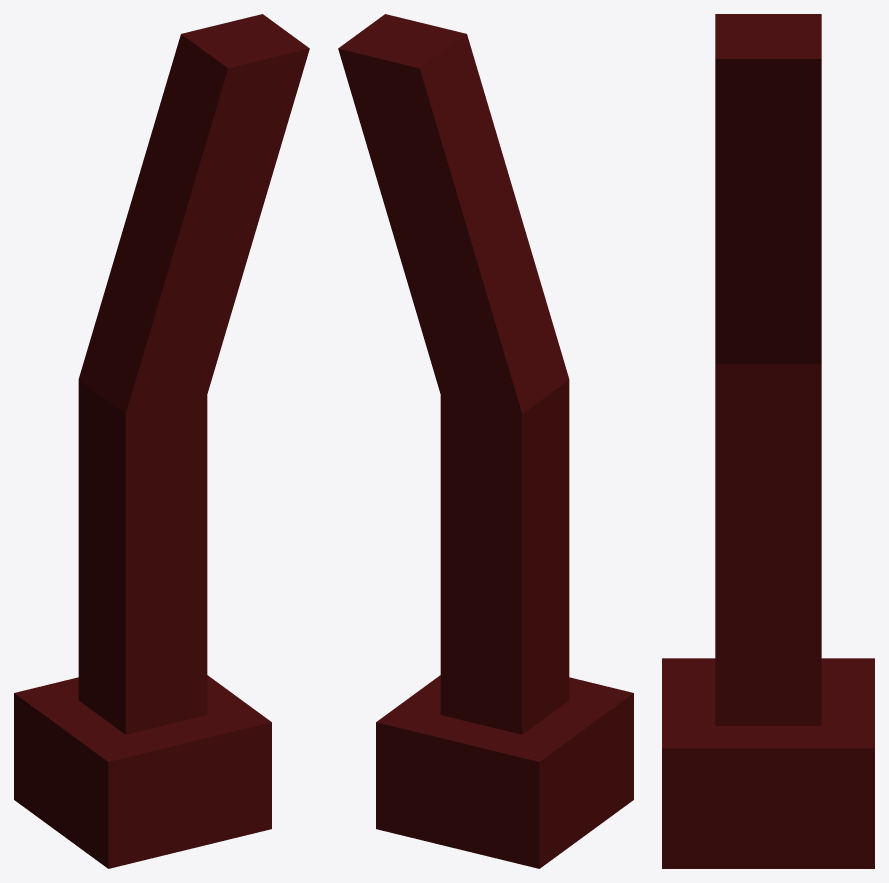
Rendered from daly3.FBX.
3 renders of one model, left to right at view 1: azimuth 30°, elevation 25°; view 2: azimuth 150°, elevation 25°; view 3: azimuth 270°, elevation 25°, orthographic. The views are drawn at different scales.
Parts seen in each view (by area): view 1: daly3; view 2: daly3; view 3: daly3.
Boxes of the visible parts, x1,y1,x2,y2 form: daly3: (14, 14, 309, 868); daly3: (338, 14, 633, 868); daly3: (662, 14, 874, 868).
Bounding box in the file's own units: 1102 × 3500 × 800.
